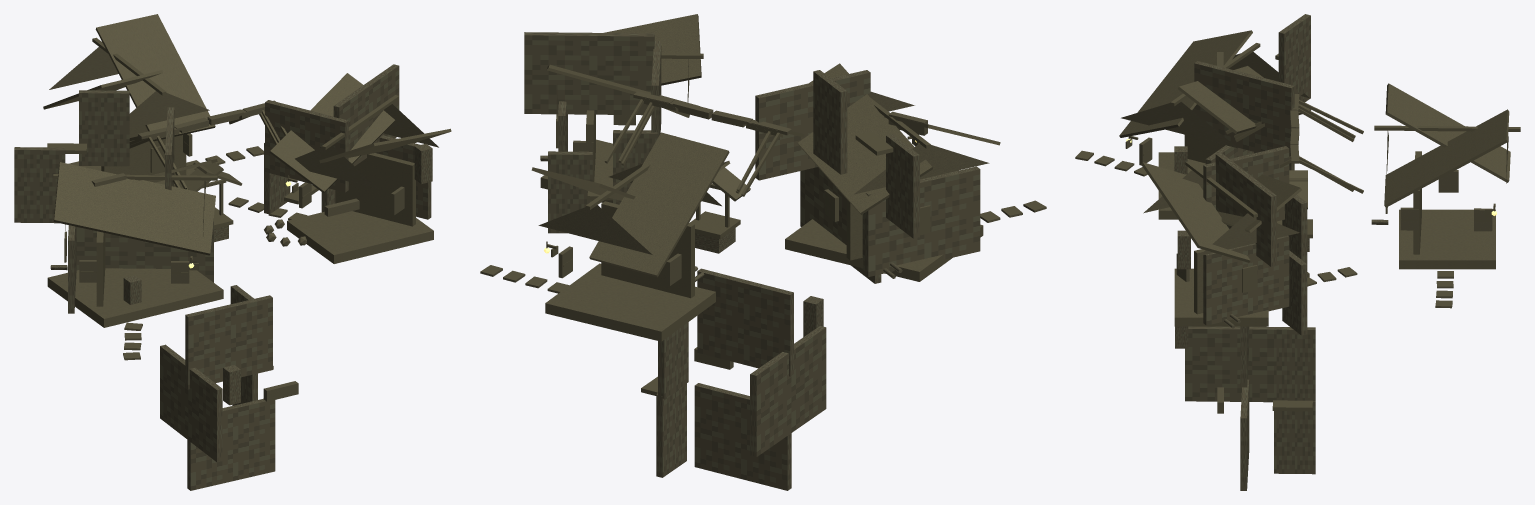
The model's file is work_1635_hamlet.glb.
3 renders of one model, left to right at view 1: azimuth 30°, elevation 25°; view 2: azimuth 150°, elevation 25°; view 3: azimuth 270°, elevation 25°, orthographic. The views are drawn at different scales.
Visible parts, largest first — view 1: /_l$/_0, /_l$/_1, /_l$/_2; view 2: /_l$/_1, /_l$/_0, /_l$/_2; view 3: /_l$/_1, /_l$/_0, /_l$/_2.
Boxes of the visible parts, <box> form: /_l$/_0: <box>43,14,451,369</box>; /_l$/_1: <box>14,64,432,490</box>; /_l$/_2: <box>49,47,438,401</box>; /_l$/_1: <box>524,32,980,490</box>; /_l$/_0: <box>480,14,1046,395</box>; /_l$/_2: <box>538,59,989,369</box>; /_l$/_1: <box>1174,14,1388,490</box>; /_l$/_0: <box>1075,30,1520,411</box>; /_l$/_2: <box>1121,52,1508,413</box>.
Size of the model in its own units: 13.95 by 13.18 by 13.42.
4 materials, 3 textured.
